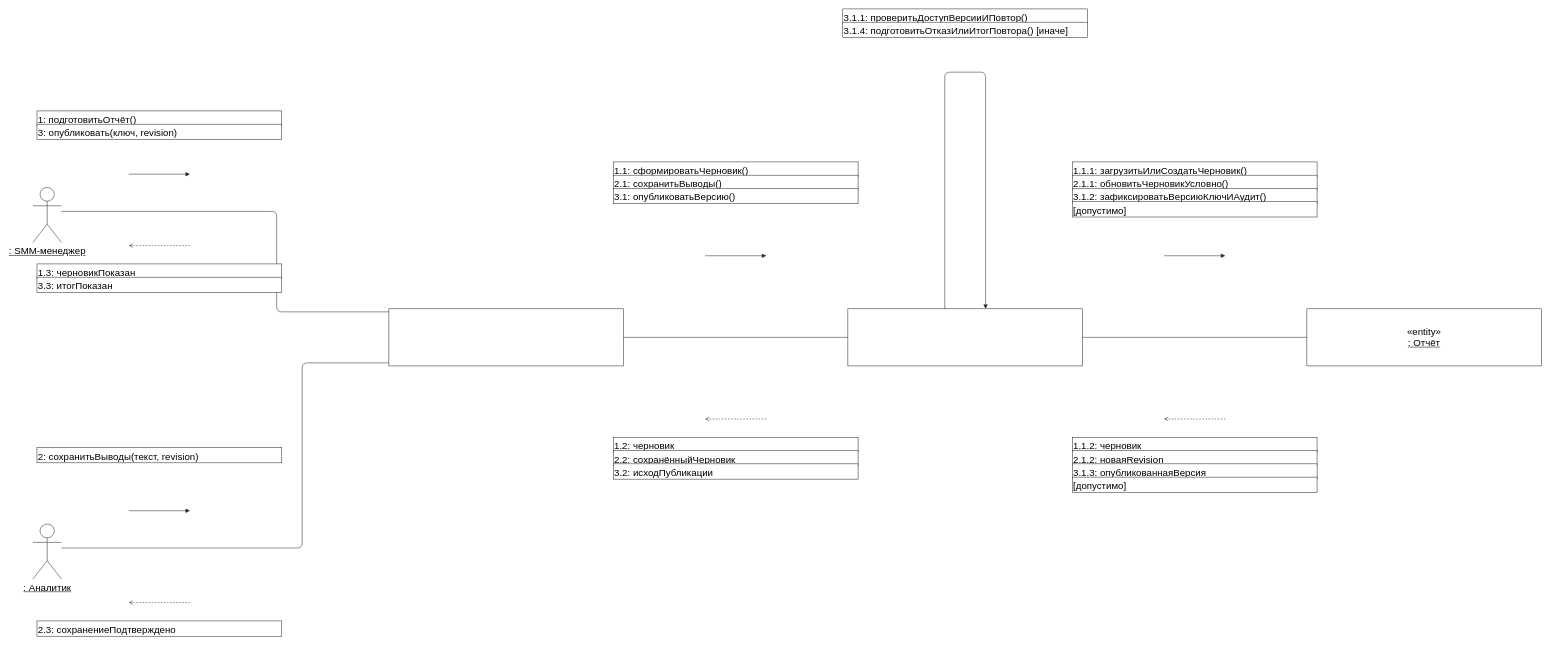
The diagram is 1550 pixels wide and 645 high, and some of its shapes have lost their labels. Each missing label, with the centre of its shape:
"«boundary» : Форма отчёта" belongs at point 505,337.
"«control» : Управление отчётами" belongs at point 964,337.
